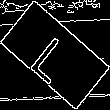L_NE: (28, 26, 82, 84)
